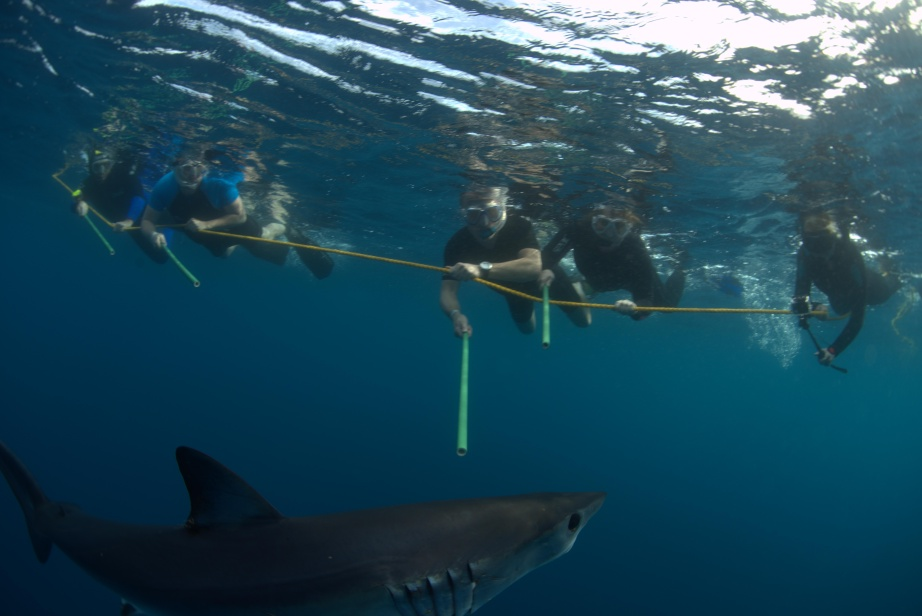Mako: (1, 441, 636, 614)
